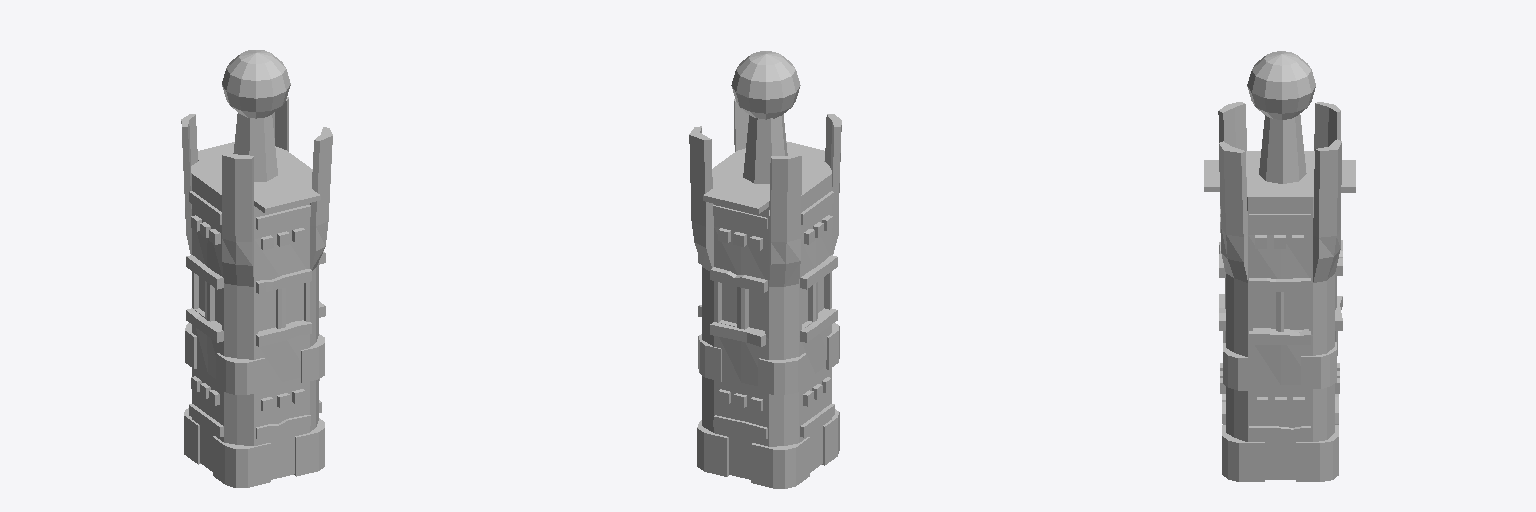
Rendered from tower.obj.
The picture shows the model from 3 angles: view 1: azimuth 30°, elevation 25°; view 2: azimuth 150°, elevation 25°; view 3: azimuth 270°, elevation 25°; orthographic projection.
Visible parts, largest first — view 1: Cube.002, Sphere; view 2: Cube.002, Sphere; view 3: Cube.002, Sphere.
Part boxes in pixels (bbox=[...]): Cube.002: bbox=[181, 97, 332, 487]; Sphere: bbox=[222, 50, 290, 181]; Cube.002: bbox=[689, 99, 841, 488]; Sphere: bbox=[731, 51, 800, 183]; Cube.002: bbox=[1204, 102, 1355, 481]; Sphere: bbox=[1247, 51, 1315, 183].
Bounding box in the file's own units: 2.29 × 8.16 × 2.78.